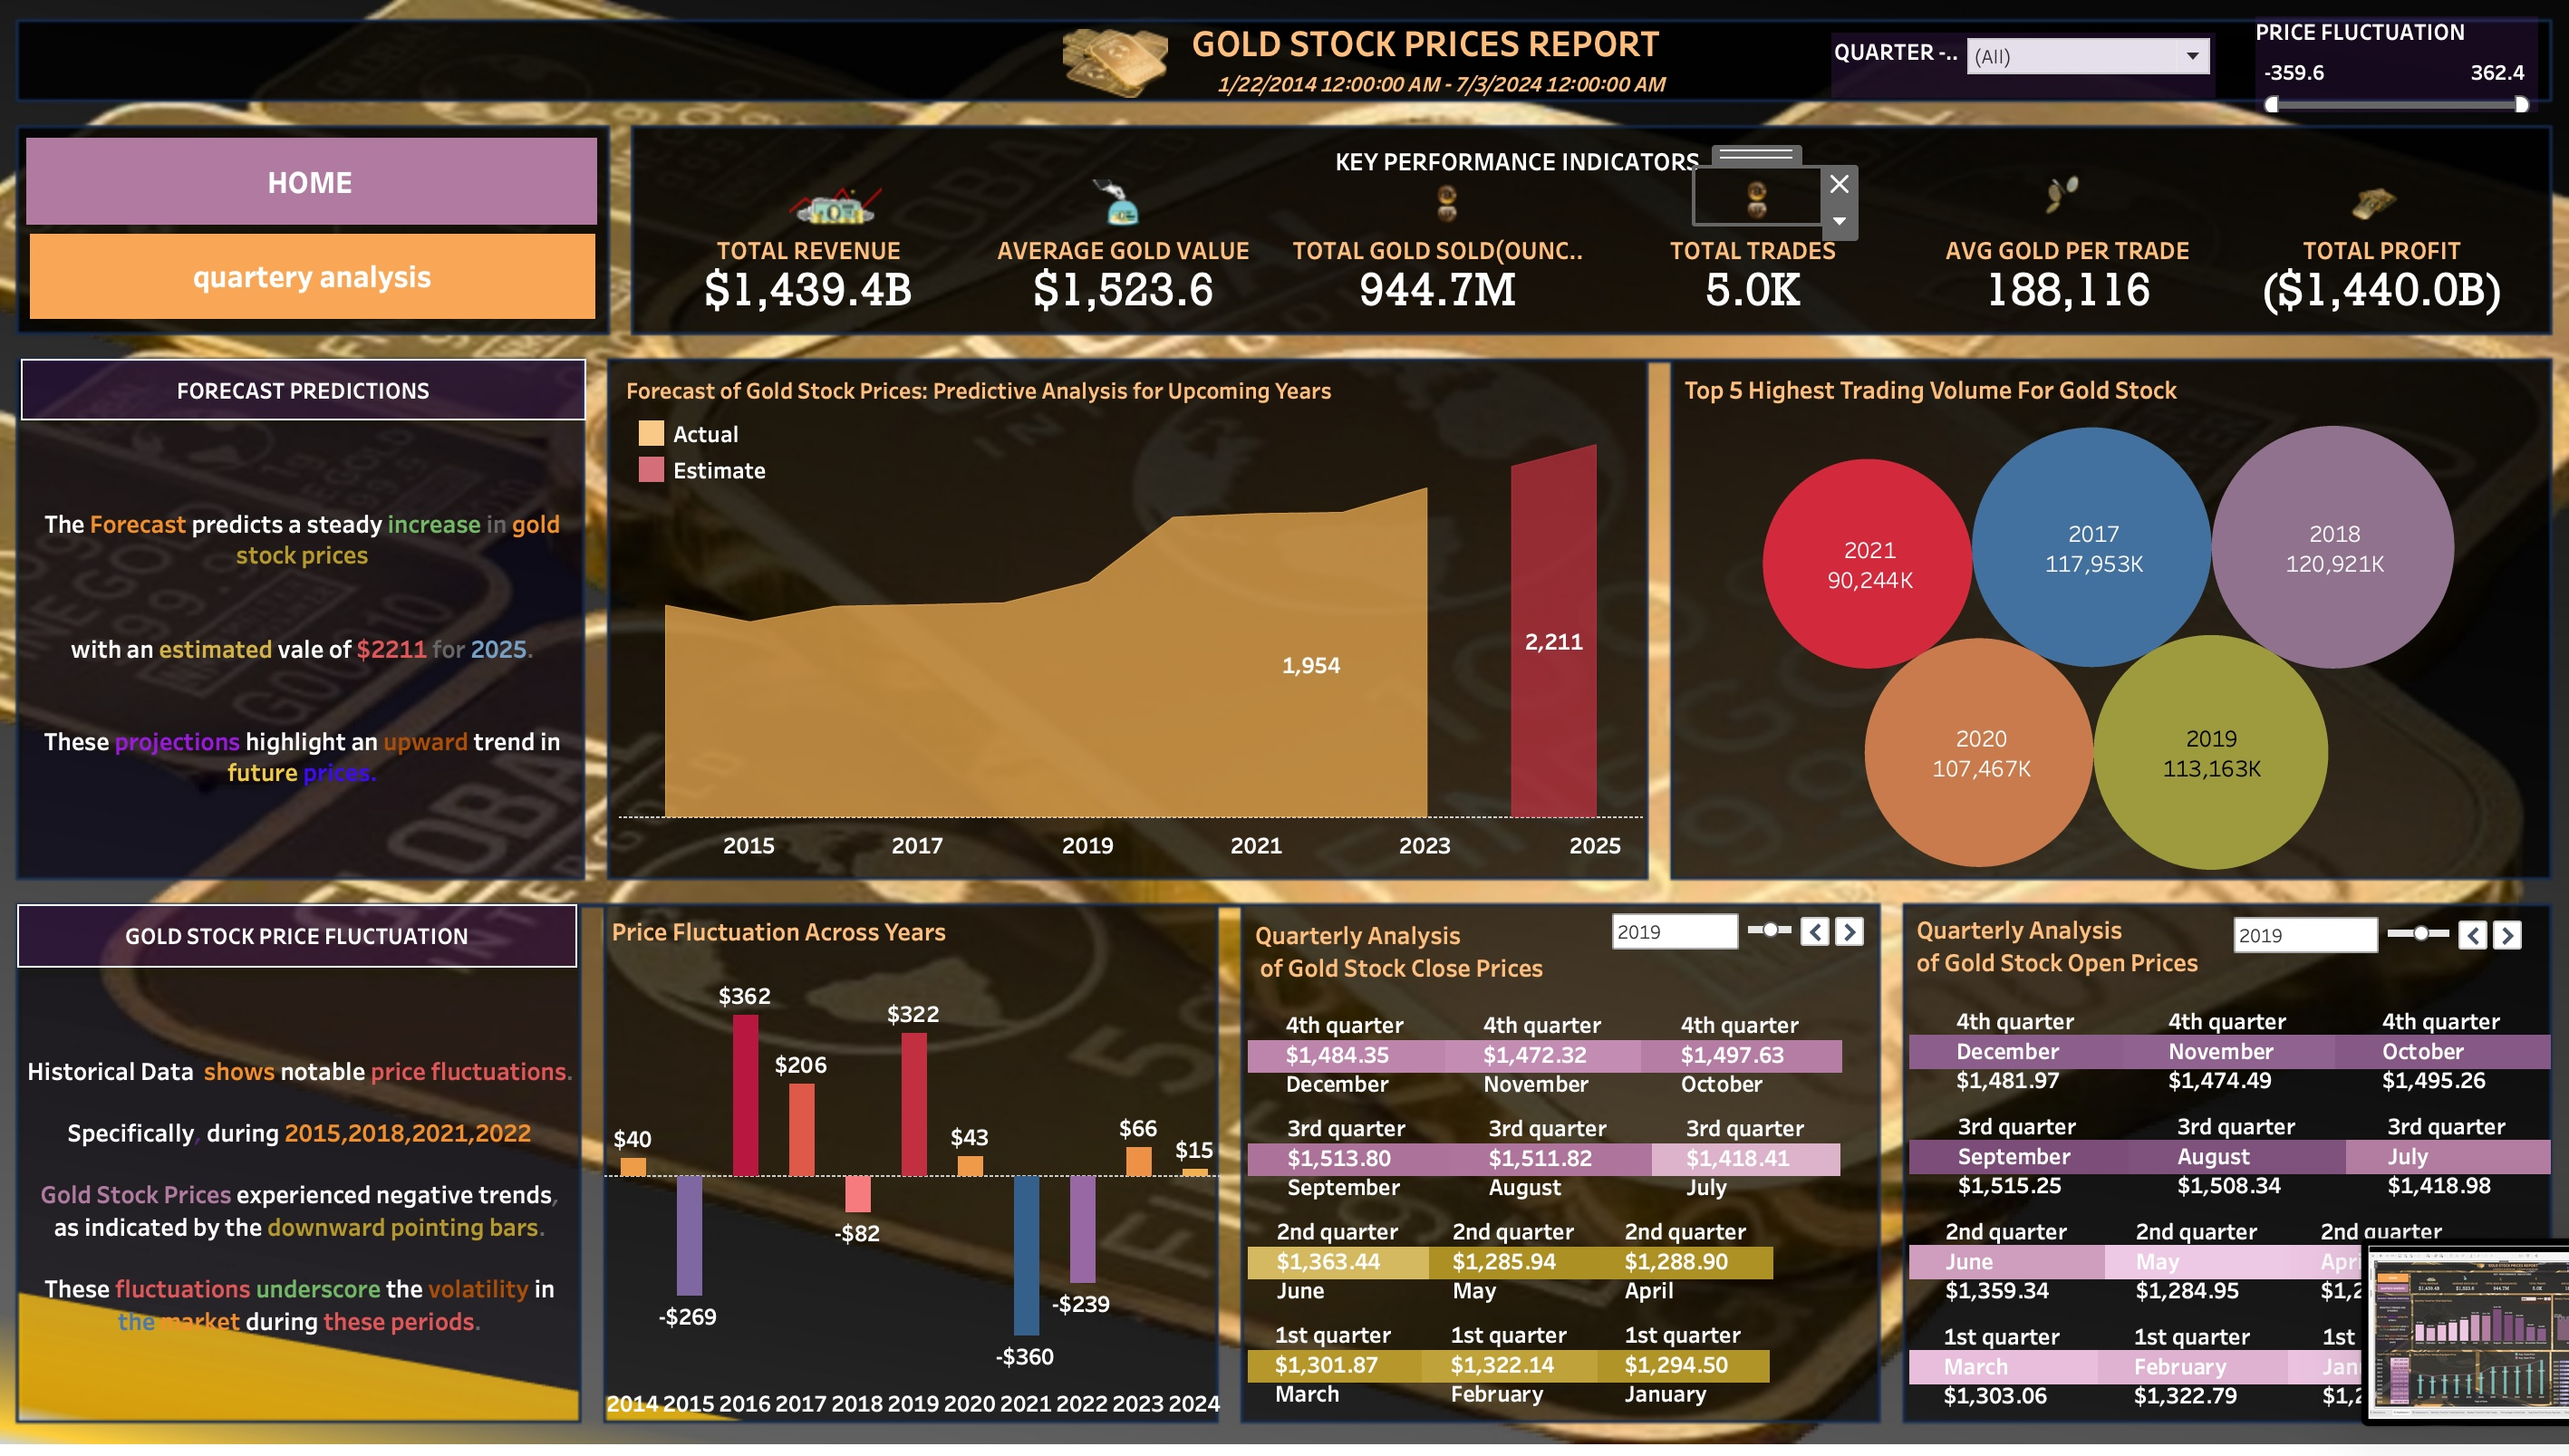

Layout of this report page (visuals, bound fields, positions):
{"tool":"tableau","page":{"name":"Dashboard 3","canvas":[1000,1000],"units":"permille","ordinal":1},"visuals":[{"type":"image","param":"/Users/dorcassarkodie/Downloads/original backy.jpeg","box":[5.5,9.7,988.9,980.7]},{"type":"filter","title":"price fluctuation","param":"[federated.0zgimoz0z6cs6b15ha84a0u8kb8z].[sum:Calculation_1322932452081643524:qk","box":[871.2,30.2,108,64]},{"type":"image","param":"/Users/dorcassarkodie/Downloads/pexels-michael-steinberg-95604-366551-removebg-p","box":[415.5,35,40.2,53.1]},{"type":"filter","title":"Forecast of Gold Stock Prices","param":"[federated.0zgimoz0z6cs6b15ha84a0u8kb8z].[Action (QUARTER(Date),MONTH(Date))]","box":[709.1,41.1,146.8,43.5]},{"type":"worksheet","title":"Sheet 8","mark":"Automatic","box":[466.8,65.2,185.6,19.3]},{"type":"text","box":[506.9,108.7,164.8,36.2]},{"type":"dashboard-object","box":[19.4,111.1,218.1,58]},{"type":"image","param":"/Users/dorcassarkodie/Downloads/pexels-gabby-k-5849556-removebg-preview.png","box":[310.9,136.5,35.3,37.4]},{"type":"image","param":"/Users/dorcassarkodie/Downloads/pexels-michael-steinberg-95604-321452-removebg-p","box":[881.6,138.9,62.3,39.9]},{"type":"image","param":"/Users/dorcassarkodie/Downloads/pexels-gabby-k-5849554-removebg-preview.png","box":[449.4,140.1,55.4,35]},{"type":"image","param":"/Users/dorcassarkodie/Downloads/pexels-jonathanborba-14891538-removebg-preview.p","box":[603.2,141.3,47.8,36.2]},{"type":"image","param":"/Users/dorcassarkodie/Downloads/pexels-pixabay-210600-removebg-preview.png","box":[734.8,141.3,55.4,37.4]},{"type":"worksheet","title":"Sheet 1","mark":"Automatic","box":[258.3,154.6,721.6,80.9]},{"type":"dashboard-object","box":[20.8,175.1,216.1,56.8]},{"type":"text","box":[17.3,258.4,216.1,41.1]},{"type":"worksheet","title":"Top 5 Highest Trading Volume","mark":"Circle","box":[650.3,263.3,329.6,335.8]},{"type":"worksheet","title":"Forecast of Gold Stock Prices","mark":"Area","rows":["Close_Price"],"cols":["Date"],"box":[245.8,264.5,391.3,327.3]},{"type":"legend","title":"Forecast of Gold Stock Prices","param":"[federated.0zgimoz0z6cs6b15ha84a0u8kb8z].[none:Forecast Indicator:nk]","box":[251.4,295.9,97,56.8]},{"type":"text","box":[18,301.9,214,301.9]},{"type":"text","box":[15.9,622,214,42.3]},{"type":"worksheet","title":"quarterly analysis ( Gold Open Prices) (2)","mark":"Bar","rows":["Date"],"cols":["Open_Price"],"box":[738.9,623.2,257.6,341.8]},{"type":"worksheet","title":"price fluctuation","mark":"Bar","rows":["Calculation_1322932452081643524"],"cols":["Date"],"box":[240.3,624.4,236.2,341.8]},{"type":"filter","title":"quarterly analysis ( Gold CLose Prices)","param":"[federated.0zgimoz0z6cs6b15ha84a0u8kb8z].[yr:Date:ok]","box":[623.3,624.4,101.1,33.8]},{"type":"worksheet","title":"quarterly analysis ( Gold CLose Prices)","mark":"Bar","rows":["Date"],"cols":["Close_Price"],"box":[486.2,626.8,238.2,337]},{"type":"filter","title":"quarterly analysis ( Gold Open Prices) (2)","param":"[federated.0zgimoz0z6cs6b15ha84a0u8kb8z].[yr:Date:ok]","box":[860.8,626.8,115,43.5]},{"type":"text","box":[18,670.3,211.9,295.9]}]}

Visuals, with their boxes on the dashboard's canvas, which has no fixed pixel size, in thousandths of its width and height (x1, y1, x2, y2). These are canvas units, not pixel positions in the 2569x1456 screenshot, which may show the page scaled, cropped or inside an application window:
image: 6 10 994 990
"price fluctuation" filter: 871 30 979 94
image: 416 35 456 88
"Forecast of Gold Stock Prices" filter: 709 41 856 85
"Sheet 8" worksheet: 467 65 652 84
text: 507 109 672 145
dashboard-object: 19 111 238 169
image: 311 136 346 174
image: 882 139 944 179
image: 449 140 505 175
image: 603 141 651 178
image: 735 141 790 179
"Sheet 1" worksheet: 258 155 980 236
dashboard-object: 21 175 237 232
text: 17 258 233 300
"Top 5 Highest Trading Volume" worksheet (Circle marks): 650 263 980 599
"Forecast of Gold Stock Prices" worksheet (Area marks): 246 264 637 592
"Forecast of Gold Stock Prices" legend: 251 296 348 353
text: 18 302 232 604
text: 16 622 230 664
"quarterly analysis ( Gold Open Prices) (2)" worksheet (Bar marks): 739 623 996 965
"price fluctuation" worksheet (Bar marks): 240 624 476 966
"quarterly analysis ( Gold CLose Prices)" filter: 623 624 724 658
"quarterly analysis ( Gold CLose Prices)" worksheet (Bar marks): 486 627 724 964
"quarterly analysis ( Gold Open Prices) (2)" filter: 861 627 976 670
text: 18 670 230 966
